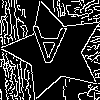A: (29, 26, 67, 74)
